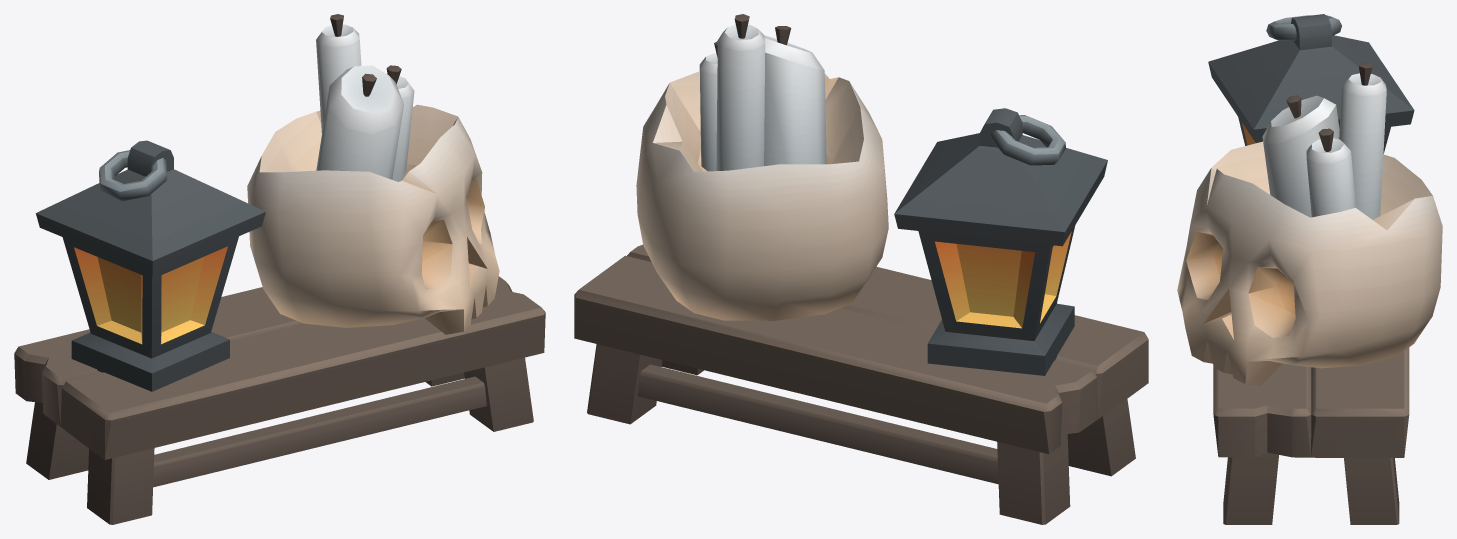
File: hb_bench.glb
The picture shows the model from 3 angles, left to right: view 1: azimuth 30°, elevation 25°; view 2: azimuth 150°, elevation 25°; view 3: azimuth 270°, elevation 25°; orthographic projection. The views are drawn at different scales.
Visible parts, largest first — view 1: bench_decorated; view 2: bench_decorated; view 3: bench_decorated.
Boxes of the visible parts, left/top/right/bottom form: bench_decorated: left=14, top=14, right=545, bottom=524; bench_decorated: left=574, top=14, right=1148, bottom=524; bench_decorated: left=1177, top=14, right=1442, bottom=524.
Bounding box in the file's own units: 1.6 × 1.34 × 0.8136.
Materials: 1 (1 with a texture image).
